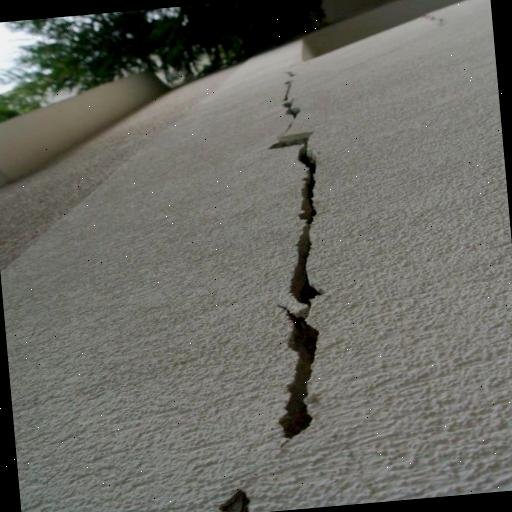spalling: (262, 96, 333, 451)
